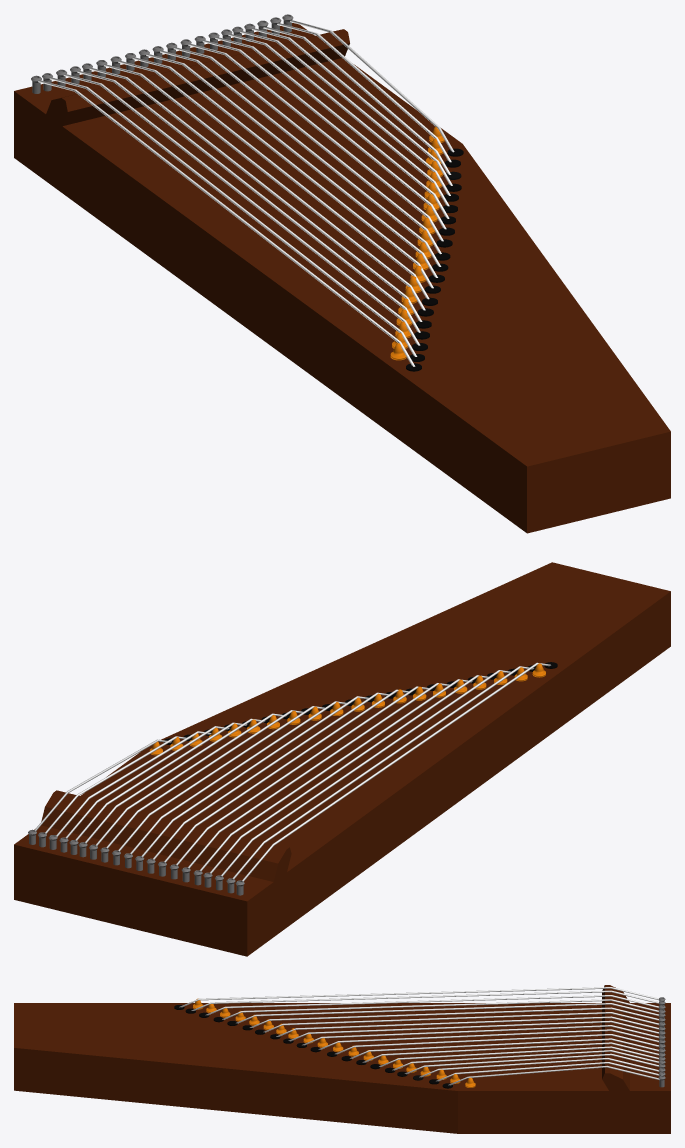
File: sulawesi_kecapi.glb
3 renders of one model, top to bottom at view 1: azimuth 30°, elevation 25°; view 2: azimuth 150°, elevation 25°; view 3: azimuth 270°, elevation 25°, orthographic. The views are drawn at different scales.
Visible parts, largest first — view 1: Cube, Cube.020, Cube.019, Cube.018, Cube.017, Cube.016, Cube.015, Cube.014, Cube.013, Cube.012, Cube.011, Cube.010 (+7 smaller); view 2: Cube, Cube.020, Cube.019, Cube.018, Cube.017, Cube.016, Cube.015, Cube.014, Cube.013, Cube.012, Cube.011, Cube.010 (+5 smaller); view 3: Cube, Cube.020, Cube.019, Cube.018, Cube.017, Cube.016, Cube.015, Cube.014, Cube.013, Cube.012, Cube.011, Cube.010 (+9 smaller).
Boxes of the visible parts, x1,y1,x2,y2 form: Cube: [14, 23, 670, 533]; Cube.020: [38, 80, 415, 366]; Cube.019: [49, 77, 417, 356]; Cube.018: [63, 74, 420, 345]; Cube.017: [77, 70, 420, 332]; Cube.016: [89, 67, 422, 321]; Cube.015: [103, 64, 425, 310]; Cube.014: [118, 60, 429, 299]; Cube.013: [132, 57, 433, 288]; Cube.012: [146, 53, 437, 277]; Cube.011: [159, 50, 441, 266]; Cube.010: [173, 47, 441, 254]; Cube: [14, 562, 670, 956]; Cube.020: [242, 662, 550, 881]; Cube.019: [233, 666, 533, 879]; Cube.018: [221, 670, 510, 876]; Cube.017: [210, 675, 488, 873]; Cube.016: [200, 679, 472, 870]; Cube.015: [188, 683, 449, 868]; Cube.014: [176, 686, 428, 865]; Cube.013: [164, 689, 408, 862]; Cube.012: [153, 692, 388, 859]; Cube.011: [141, 696, 368, 856]; Cube.010: [130, 701, 346, 853]; Cube: [14, 985, 670, 1133]; Cube.020: [179, 987, 658, 1007]; Cube.019: [191, 990, 658, 1010]; Cube.018: [205, 995, 658, 1015]; Cube.017: [222, 999, 658, 1019]; Cube.016: [236, 1003, 658, 1023]; Cube.015: [249, 1007, 658, 1027]; Cube.014: [263, 1012, 658, 1032]; Cube.013: [276, 1016, 658, 1036]; Cube.012: [288, 1020, 658, 1041]; Cube.011: [302, 1025, 658, 1045]; Cube.010: [318, 1029, 658, 1049].
Size of the model in its own units: 4.07 by 1.36 by 12.81.
